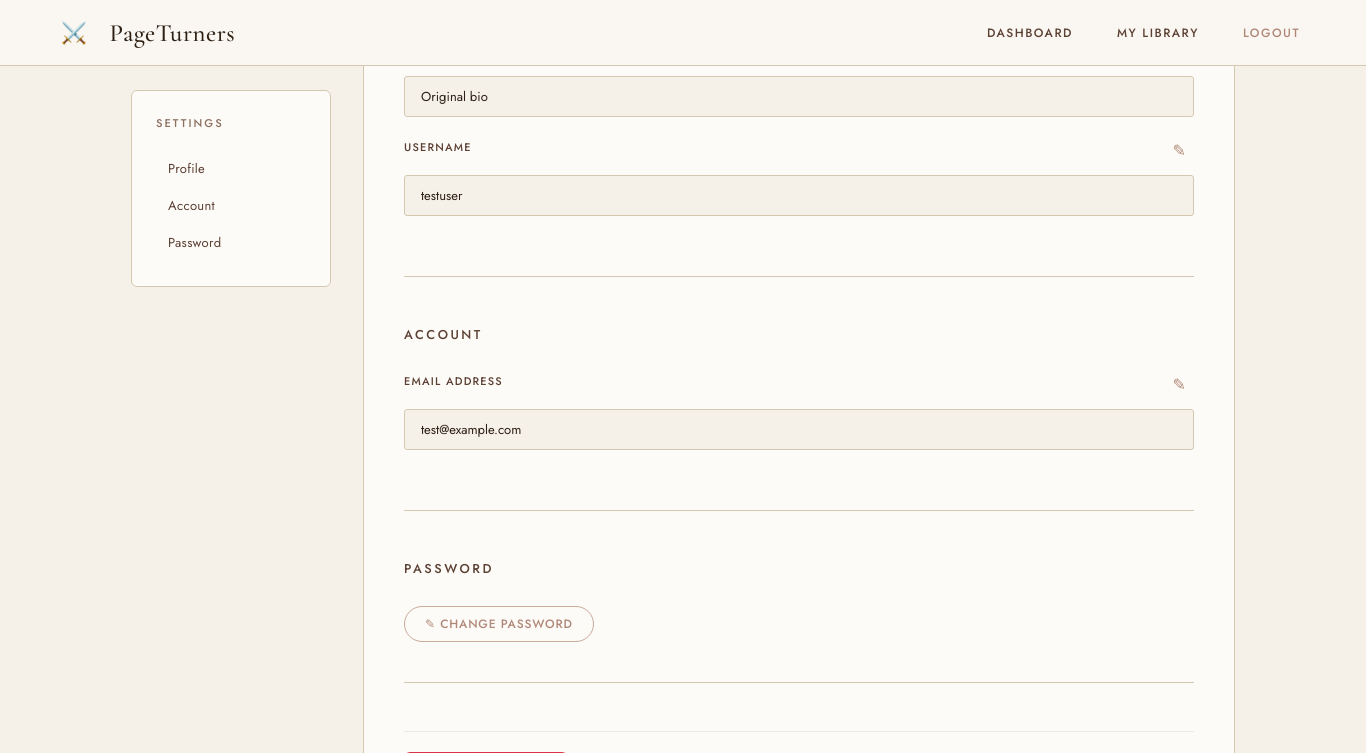
it: Update Profile Fields › Should save email and show verification message
This screenshot has width=1366, height=753.
(page scrolled)
Expected: the text "test@example.com" is shown, x1=404 y1=409 x2=1194 y2=450
Click the button titled "Edit" in the row of "Email Address" at (1179, 384), box x1=1165 y1=372 x2=1194 y2=397
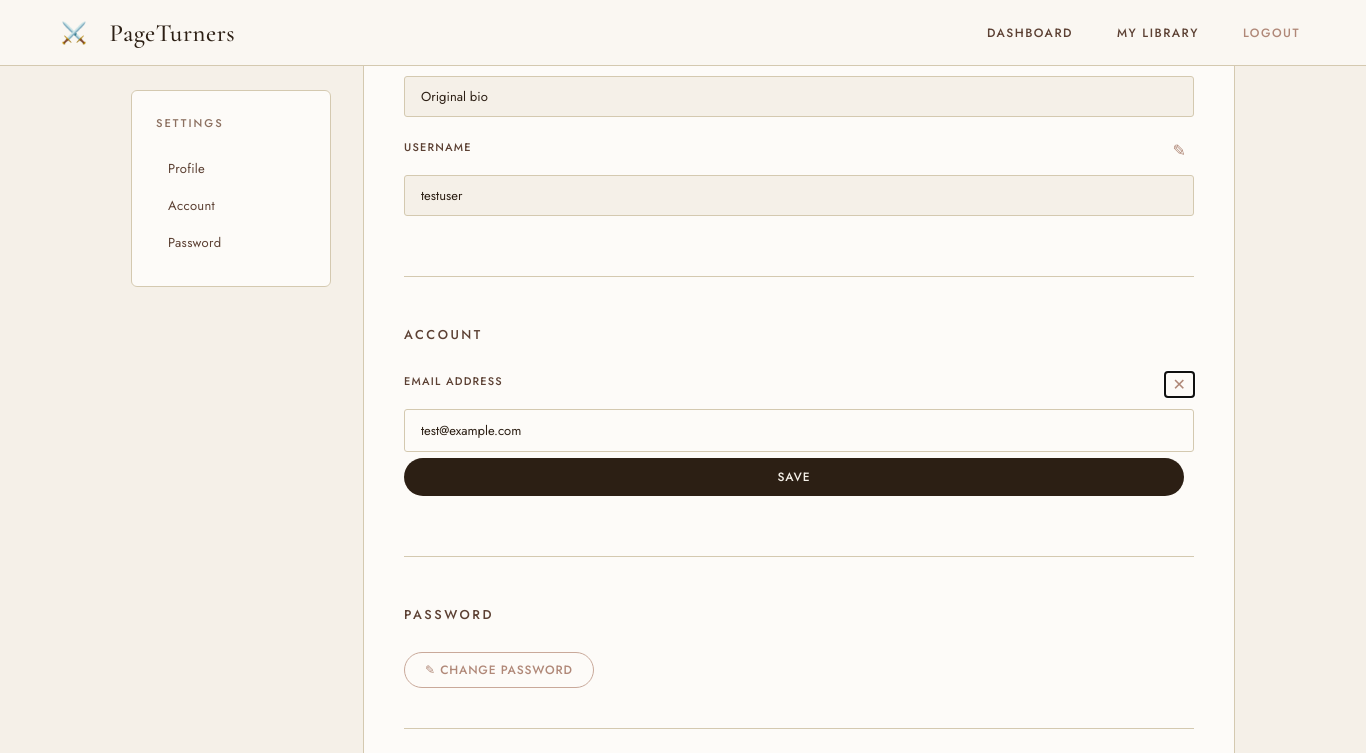
Replace the text in the field with placeholder "your@email.com" with "new@example.com" at (799, 431), box x1=404 y1=409 x2=1194 y2=452
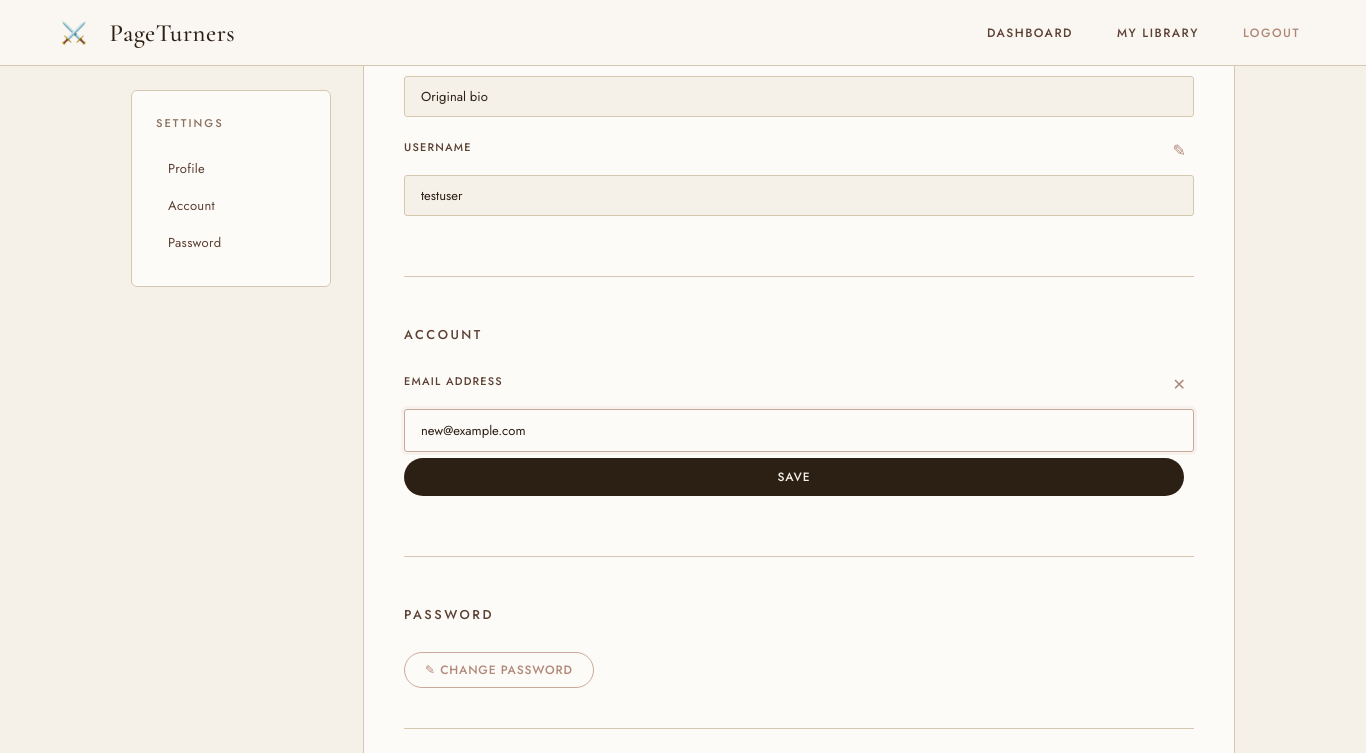
Click the button "Save" at (794, 477), box x1=404 y1=458 x2=1184 y2=496
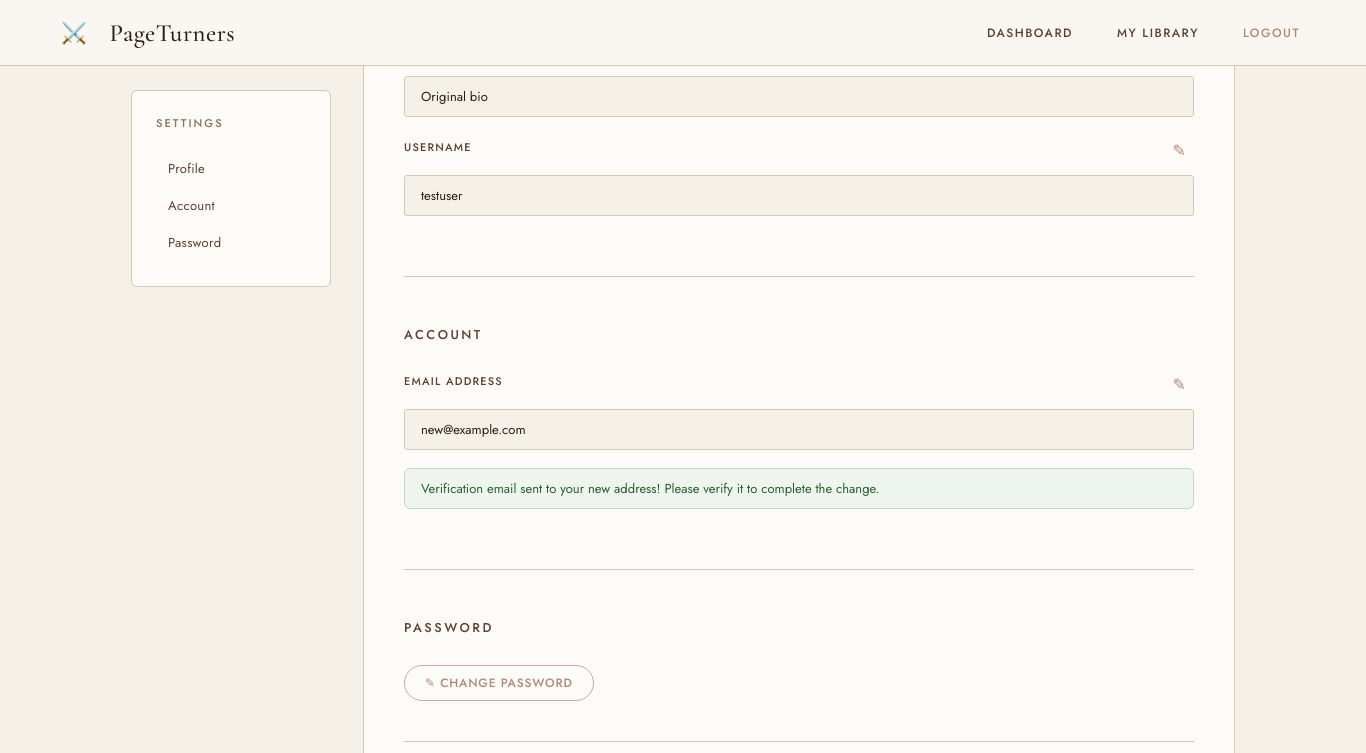
Expected: the text "Verification email sent" is shown, x1=421 y1=479 x2=880 y2=498
